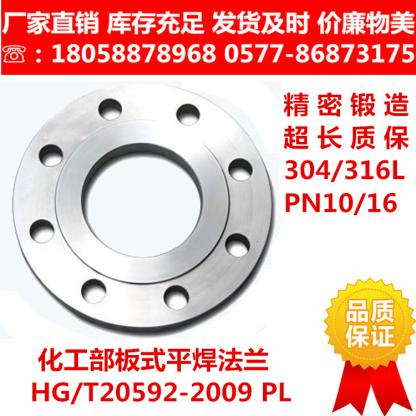FOD: (9, 77, 277, 336)
